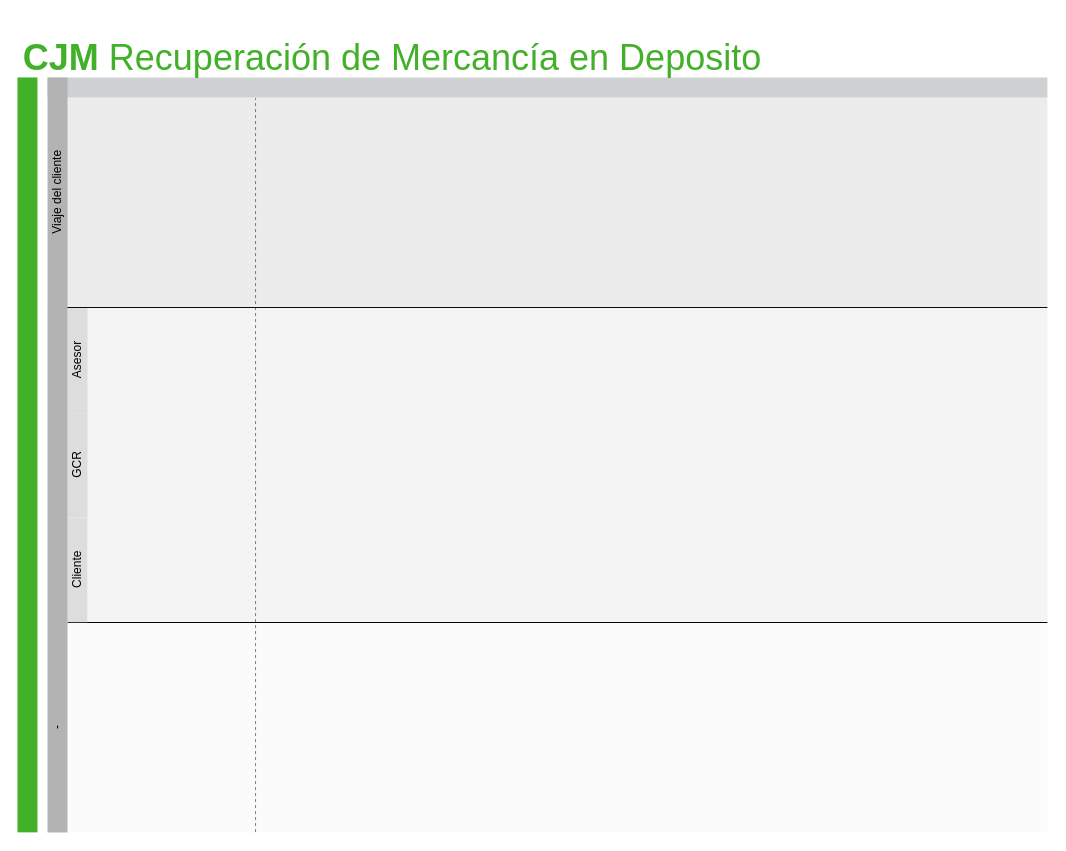
This 1066x851 diagram has some shape labels left out. Here are the shapes that lost their labels. From the top down, the centre of each, then its label:
At point 547,87: "4ta semana de atraso".
At point 27,454: "Customer Journey Map".
At point 57,465: "Proceso de negocio".
